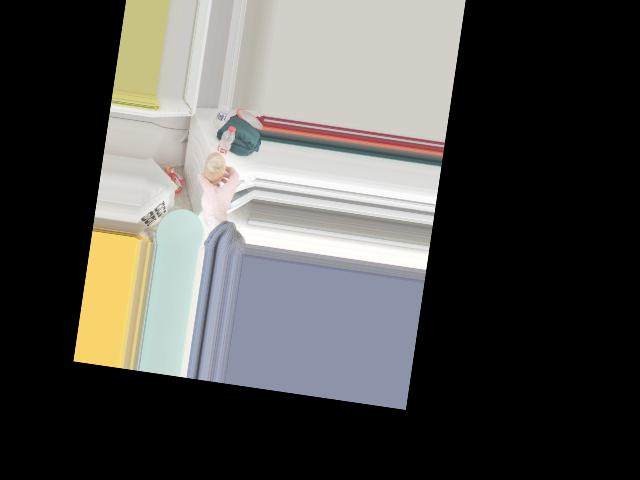sweet_potato: (198, 151, 232, 191)
